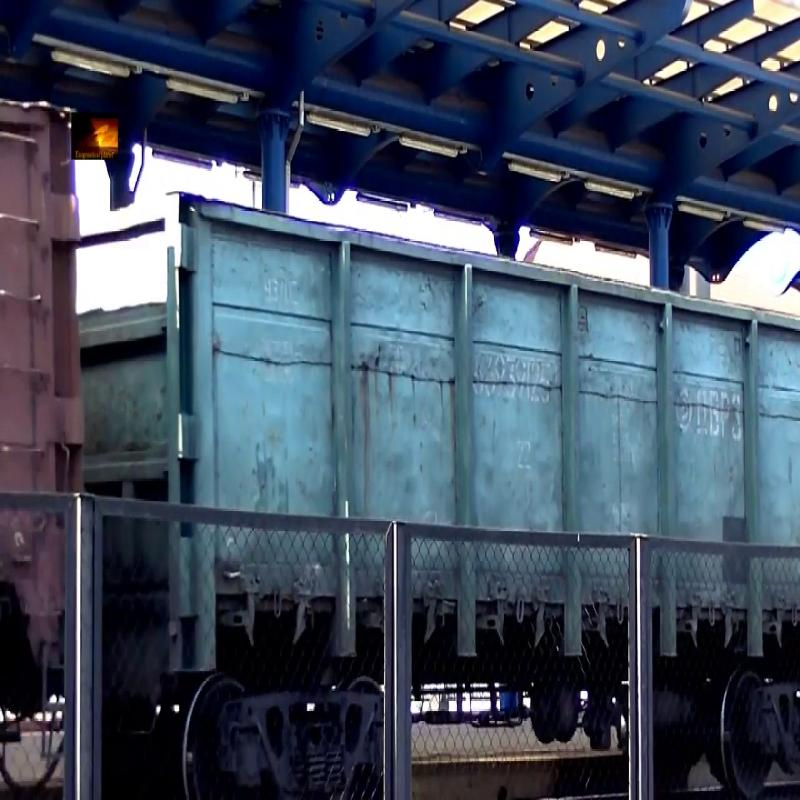train: (147, 49, 800, 773)
